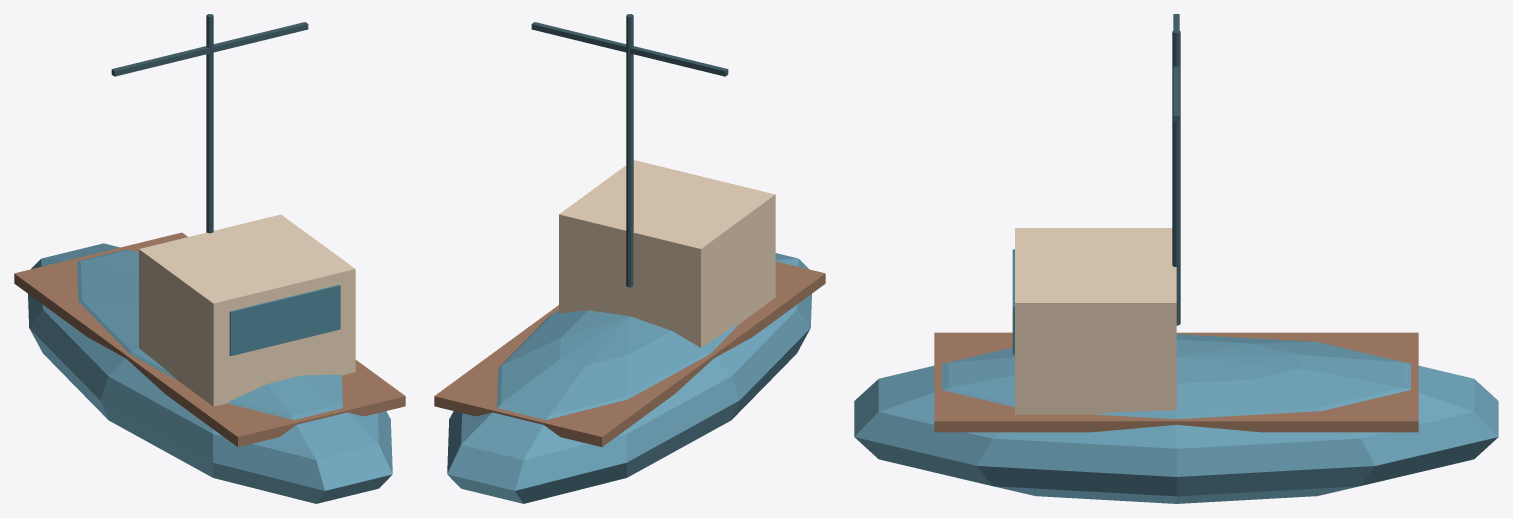
File: fishingBoat.obj
3 renders of one model, left to right at view 1: azimuth 30°, elevation 25°; view 2: azimuth 150°, elevation 25°; view 3: azimuth 270°, elevation 25°, orthographic. The views are drawn at different scales.
Parts seen in each view (by area): view 1: fishingBoat; view 2: fishingBoat; view 3: fishingBoat.
Part boxes in pixels (box(x1,y1,x2,y2)): fishingBoat: box(14, 14, 405, 503); fishingBoat: box(434, 14, 825, 503); fishingBoat: box(854, 14, 1498, 503).
Size of the model in its own units: 3.4 by 6.15 by 7.99.
